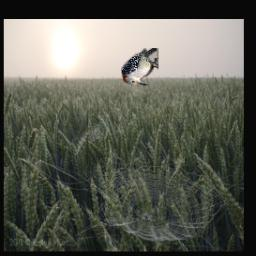Woodpecker: (121, 49, 158, 86)
